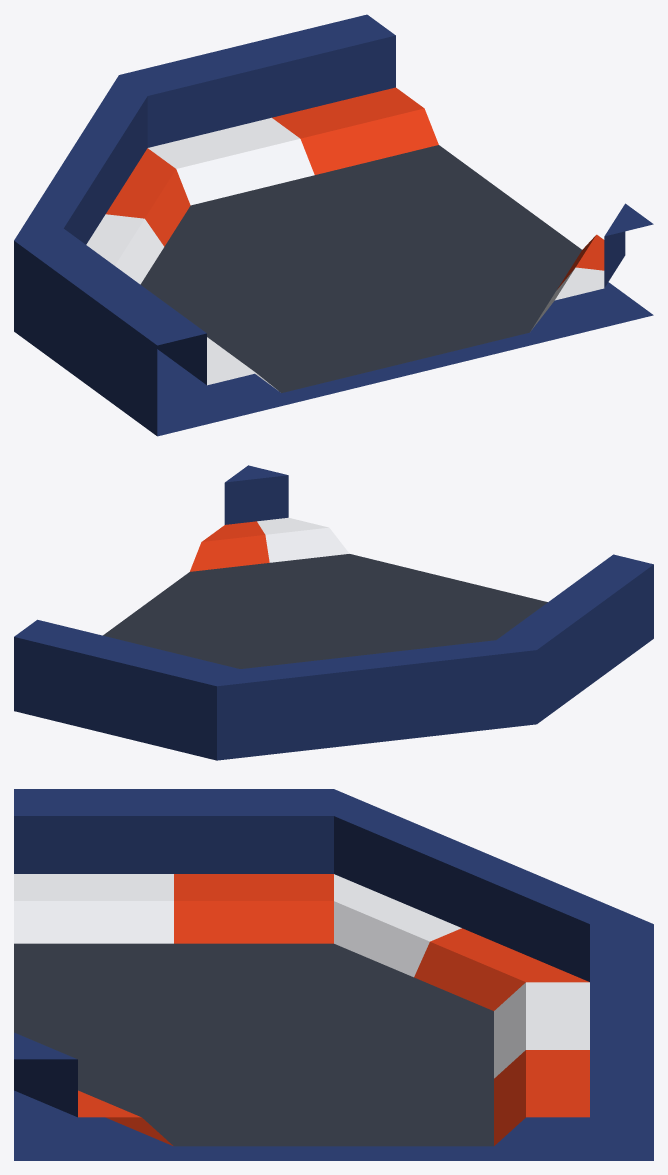
The model's file is Corner.fbx.
3 views of the same model, one above another, from view 1: azimuth 30°, elevation 25°; view 2: azimuth 150°, elevation 25°; view 3: azimuth 270°, elevation 25° (orthographic). The views are drawn at different scales.
Visible parts, largest first — view 1: corner; view 2: corner; view 3: corner.
Boxes of the visible parts, box(x1,y1,x2,y2) form: corner: box(14, 14, 653, 436); corner: box(14, 465, 653, 760); corner: box(14, 789, 653, 1160).
Size of the model in its own units: 400 by 70 by 400.
